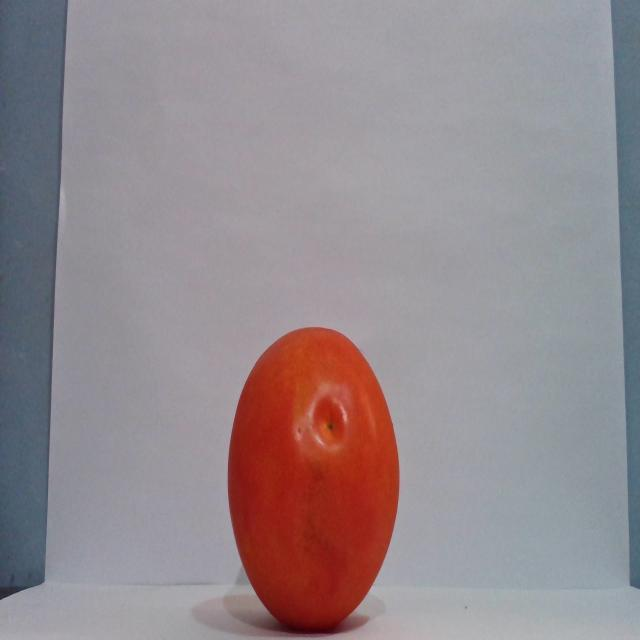Red: (225, 324, 401, 631)
